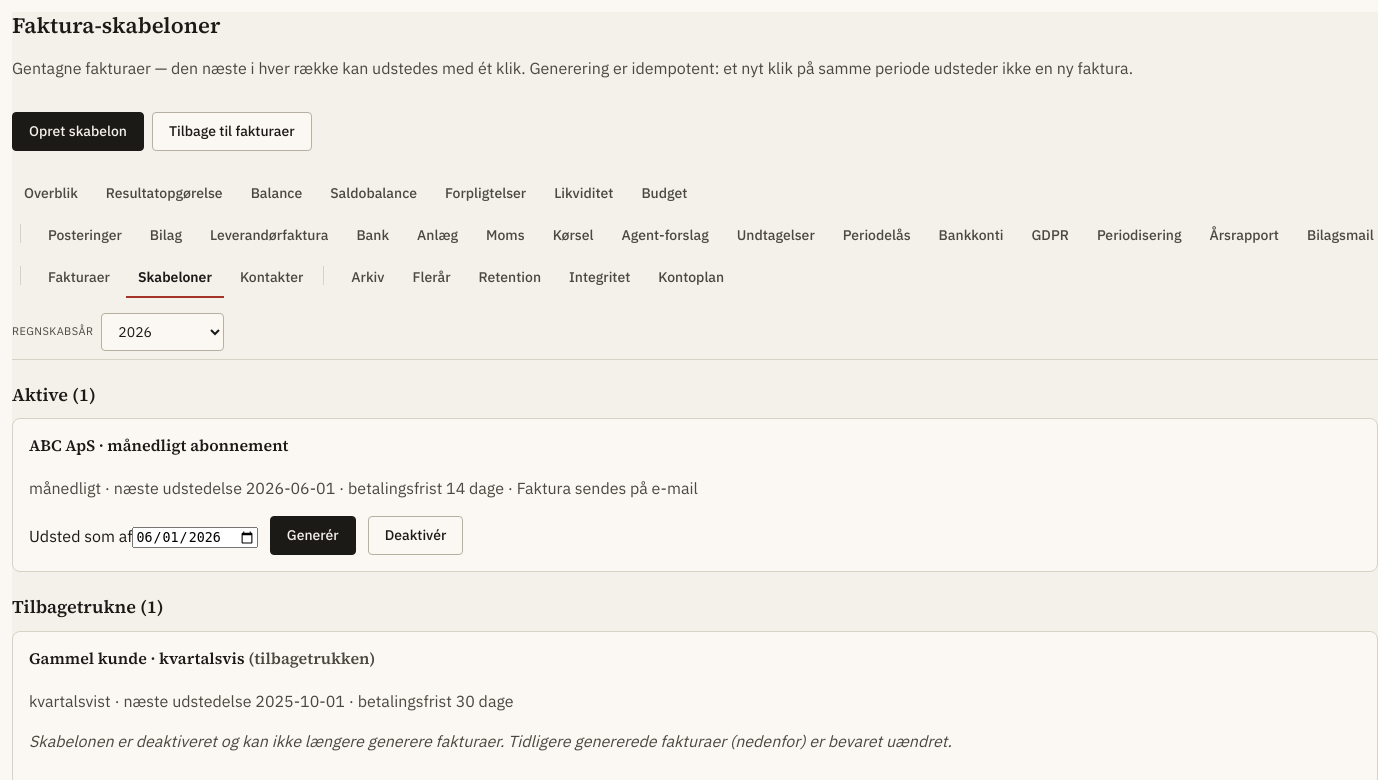
Test: RecurringInvoicesView — Faktura-skabeloner › Deaktivér confirms, posts to the retire endpoint with the reason, and reloads
Expected: the heading "ABC ApS · månedligt abonnement" is shown, top-left (29, 434), bottom-right (288, 456)
Click the button "Deaktivér": (415, 536) top-left (368, 516), bottom-right (463, 555)
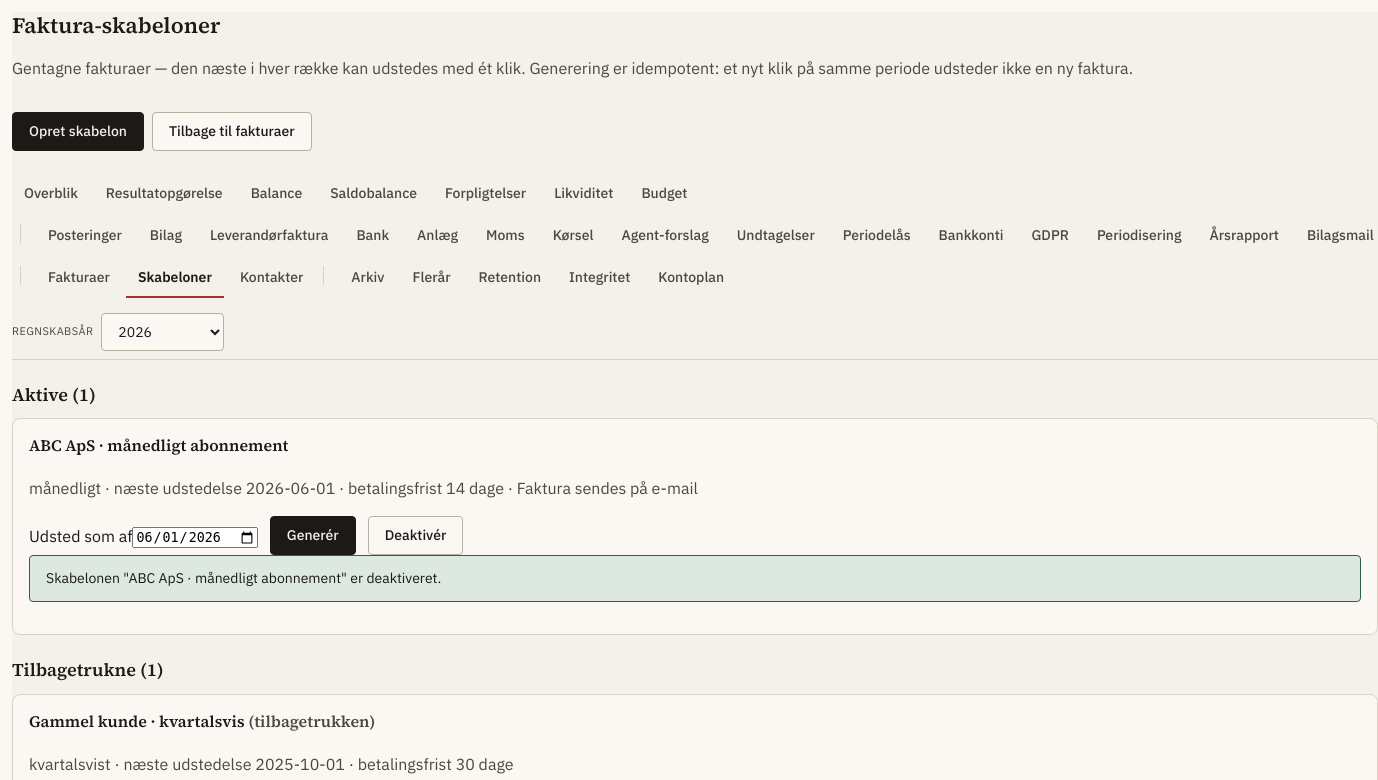
Expected: the text "Skabelonen \"ABC ApS · månedligt abonnement\" er deaktiveret." is shown, top-left (29, 555), bottom-right (1361, 602)
